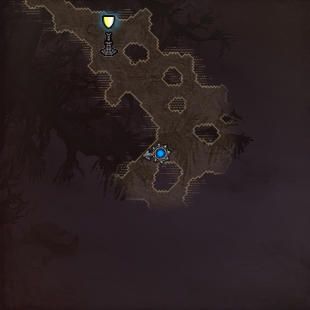ShieldPylon: (101, 13, 119, 56)
